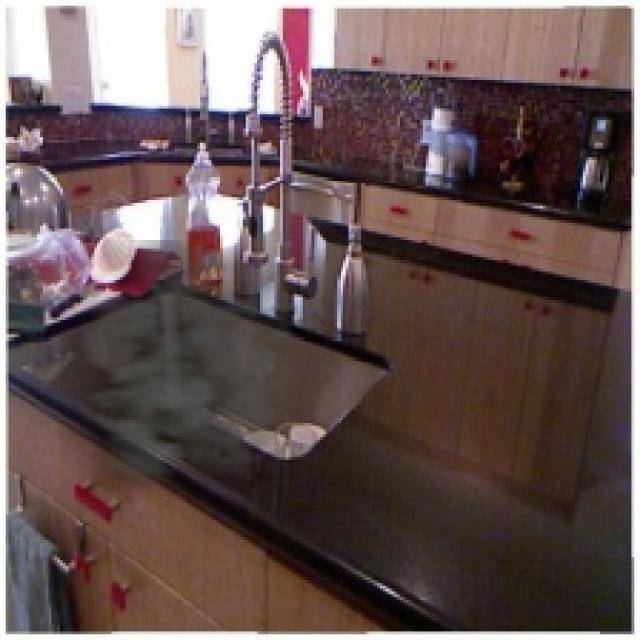Smoke: (60, 240, 326, 503)
